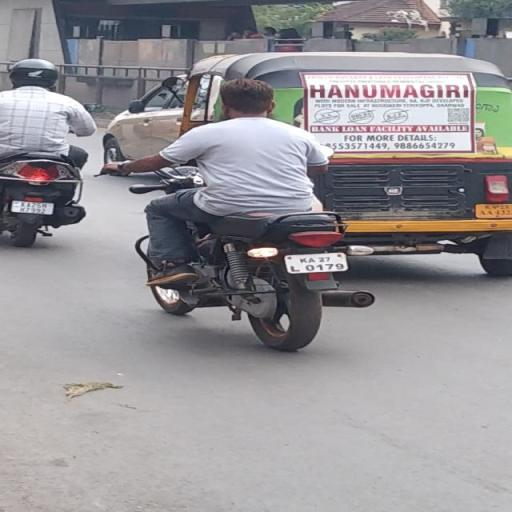bike: (93, 85, 379, 353)
numberplate: (282, 251, 352, 276)
withouthelmet: (221, 82, 276, 118)
